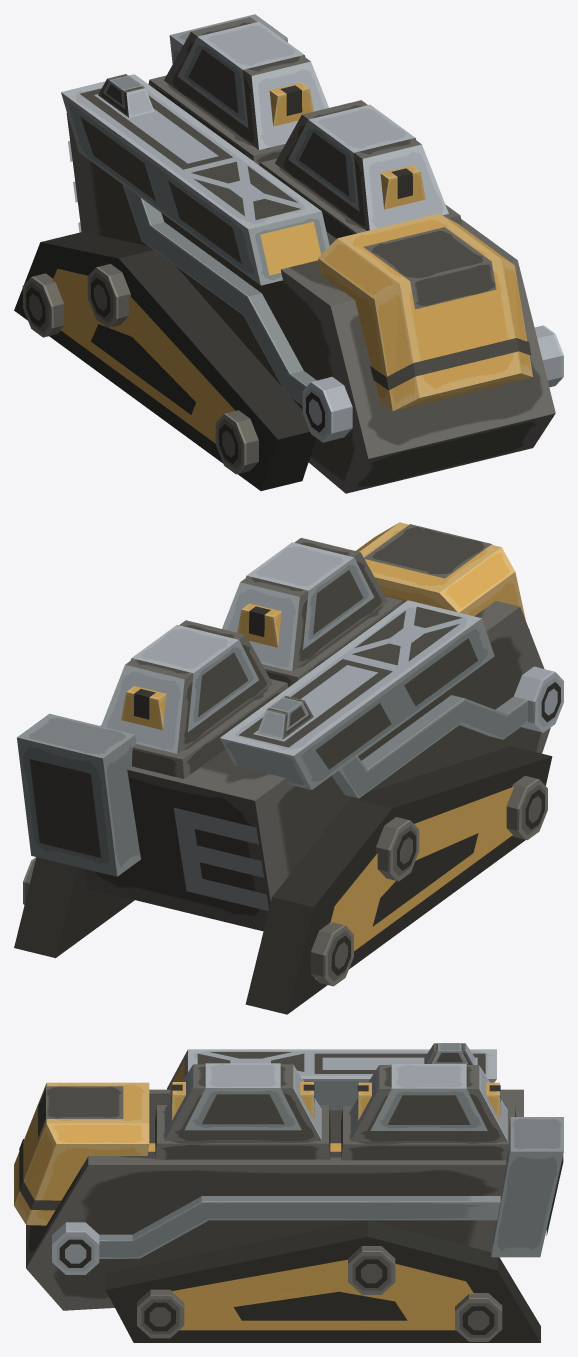
The model's file is truck2.FBX.
3 views of the same model, one above another, from view 1: azimuth 30°, elevation 25°; view 2: azimuth 150°, elevation 25°; view 3: azimuth 270°, elevation 25° (orthographic). The views are drawn at different scales.
Visible parts, largest first — view 1: g, truck2, d, a, b, c, f, e; view 2: g, truck2, e, c, d, b, a, f; view 3: g, truck2, e, d, a, b, c, f.
Boxes of the visible parts, x1,y1,x2,y2 form: g: [61, 17, 555, 493]; truck2: [14, 232, 316, 490]; d: [302, 325, 563, 442]; a: [215, 410, 258, 474]; b: [87, 264, 130, 327]; c: [22, 273, 63, 337]; f: [98, 74, 154, 117]; e: [169, 14, 287, 63]; g: [84, 522, 550, 931]; truck2: [14, 746, 552, 1014]; e: [17, 713, 140, 876]; c: [23, 857, 353, 986]; d: [514, 666, 563, 732]; b: [376, 817, 419, 881]; a: [506, 775, 547, 840]; f: [257, 695, 313, 739]; g: [14, 1049, 523, 1310]; truck2: [105, 1220, 540, 1342]; e: [491, 1117, 563, 1257]; d: [52, 1222, 99, 1274]; a: [137, 1289, 184, 1338]; b: [348, 1246, 395, 1294]; c: [455, 1293, 502, 1341]; f: [424, 1043, 475, 1064].
Bounding box in the file's own units: 58.98 × 112 × 50.57.
